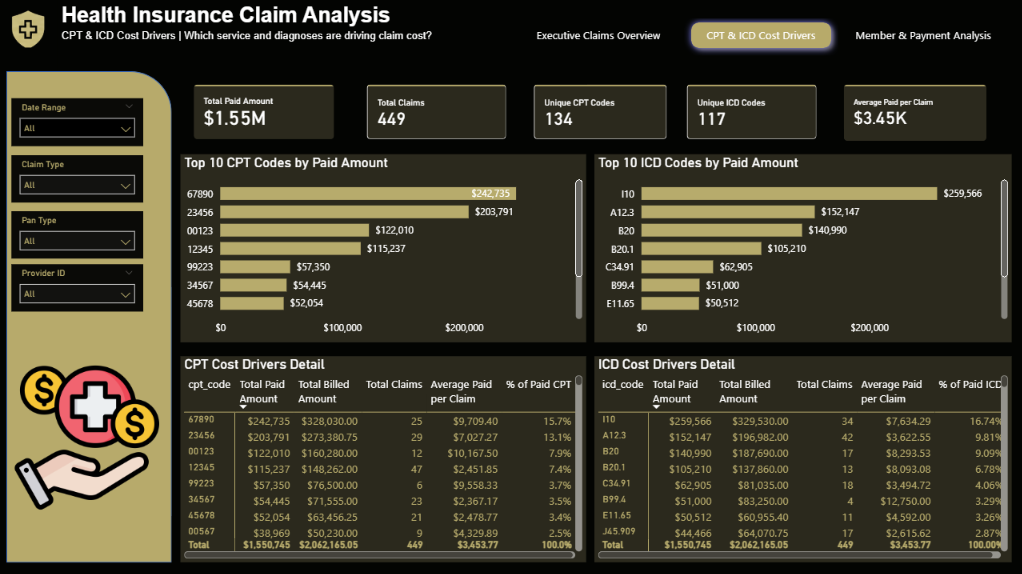

What the dashboard file says about the page in this screenshot:
{"tool":"powerbi","page":{"name":"CPT & ICD Cost Drivers","canvas":[1280,720],"ordinal":1},"visuals":[{"type":"group","id":"g1","title":"Group 3","box":[0,0,1280.3,90.6],"z":0},{"type":"shape","box":[10,89.8,206.7,614.3],"z":0,"group":"g2"},{"type":"cardVisual","fields":{"Data":["Measure Table.Total Paid Amount"]},"box":[228.1,89.8,209.5,102.6],"z":0,"group":"g3"},{"type":"textbox","box":[74.1,0,1206.2,90.6],"z":1000,"group":"g1"},{"type":"cardVisual","fields":{"Data":["Measure Table.Total Claims"]},"box":[444.8,89.8,208.1,102.6],"z":1000,"group":"g3"},{"type":"clusteredBarChart","title":"Top 10 CPT Codes by Paid Amount","fields":{"Y":["Measure Table.Total Paid Amount"],"Category":["claims.cpt_code"]},"box":[228.1,193.9,507.4,235.2],"z":1000},{"type":"slicer","fields":{"Values":["claims.claim_type"]},"box":[16.8,194.5,164.5,58.8],"z":1000,"group":"g2"},{"type":"cardVisual","fields":{"Data":["Measure Table.Average Paid per Claim"]},"box":[1040.6,89.8,212.4,104.1],"z":2000,"group":"g3"},{"type":"slicer","fields":{"Values":["Date.Month Year"]},"box":[16.8,123.7,164.7,59.6],"z":2000,"group":"g2"},{"type":"clusteredBarChart","title":"Top 10 ICD Codes by Paid Amount","fields":{"Y":["Measure Table.Total Paid Amount"],"Category":["claims.icd_code"]},"box":[745.5,193.9,521.7,235.2],"z":2000},{"type":"image","box":[0,0,74.1,74.1],"z":3000,"group":"g1"},{"type":"cardVisual","fields":{"Data":["Measure Table.Unique ICD Codes"]},"box":[843.9,89.8,196.7,102.6],"z":3000,"group":"g3"},{"type":"slicer","fields":{"Values":["members.plan_type"]},"box":[16.8,265.4,164.5,58.8],"z":3000,"group":"g2"},{"type":"pivotTable","title":"ICD Cost Drivers Detail","fields":{"Values":["Measure Table.Total Paid Amount","Measure Table.Total Billed Amount","Measure Table.Total Claims","Measure Table.Average Paid per Claim","Measure Table.% of Paid ICD"],"Rows":["claims.icd_code"]},"box":[745.5,446.1,521.7,258],"z":3000},{"type":"cardVisual","fields":{"Data":["Measure Table.Unique CPT Codes"]},"box":[652.9,89.8,201,102.6],"z":4000,"group":"g3"},{"type":"slicer","fields":{"Values":["claims.provider_id"]},"box":[16.8,331.4,164.5,58.8],"z":4000,"group":"g2"},{"type":"pivotTable","title":"CPT Cost Drivers Detail","fields":{"Values":["Measure Table.Total Paid Amount","Measure Table.Total Billed Amount","Measure Table.Total Claims","Measure Table.Average Paid per Claim","Measure Table.% of Paid CPT"],"Rows":["claims.cpt_code"]},"box":[228.1,446.1,507.4,258],"z":4000},{"type":"group","id":"g2","title":"Group 1","box":[10,89.8,206.7,614.3],"z":5000},{"type":"image","box":[17.1,397.7,186.7,300.8],"z":5000,"group":"g2"},{"type":"group","id":"g3","title":"Group 2","box":[228.1,89.8,1024.9,104.1],"z":6000},{"type":"pageNavigator","box":[653.2,20.4,600.4,50.4],"z":10500,"group":"g1"}]}

Visuals, with their boxes in screenshot pixels (x1, y1, x2, y2), scaled from the page's 1280x720 canvas onto the 1022x574 screenshot:
"Group 3" group: 0:0:1021:72
shape: 8:72:173:561
cardVisual - Measure Table.Total Paid Amount: 182:72:349:153
textbox: 59:0:1021:72
cardVisual - Measure Table.Total Claims: 355:72:521:153
"Top 10 CPT Codes by Paid Amount" clusteredBarChart: 182:155:587:342
slicer - claims.claim_type: 13:155:145:202
cardVisual - Measure Table.Average Paid per Claim: 831:72:1000:155
slicer - Date.Month Year: 13:99:145:146
"Top 10 ICD Codes by Paid Amount" clusteredBarChart: 595:155:1012:342
image: 0:0:59:59
cardVisual - Measure Table.Unique ICD Codes: 674:72:831:153
slicer - members.plan_type: 13:212:145:258
"ICD Cost Drivers Detail" pivotTable: 595:356:1012:561
cardVisual - Measure Table.Unique CPT Codes: 521:72:682:153
slicer - claims.provider_id: 13:264:145:311
"CPT Cost Drivers Detail" pivotTable: 182:356:587:561
"Group 1" group: 8:72:173:561
image: 14:317:163:557
"Group 2" group: 182:72:1000:155
pageNavigator: 522:16:1001:56
